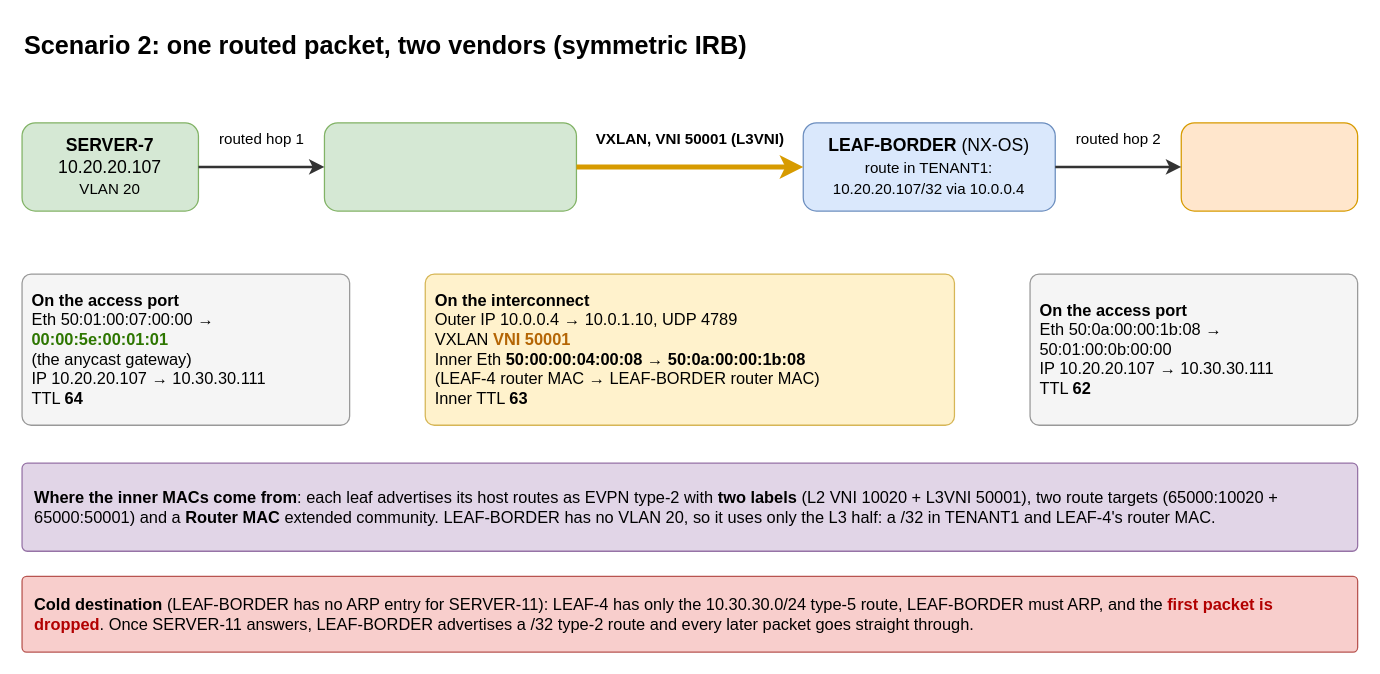
Some shapes in this 1380 by 674 pixel diagram are drawn without their labels. The shapes that lost their labels are listed below. From the top down, each one's centre as x and y in pixels, then its label:
At point (449, 166): "LEAF-4 (Cumulus) route in TENANT1: 10.30.30.111/32 via 10.0.1.10".
At point (1269, 166): "SERVER-11 10.30.30.111 VLAN 30".
